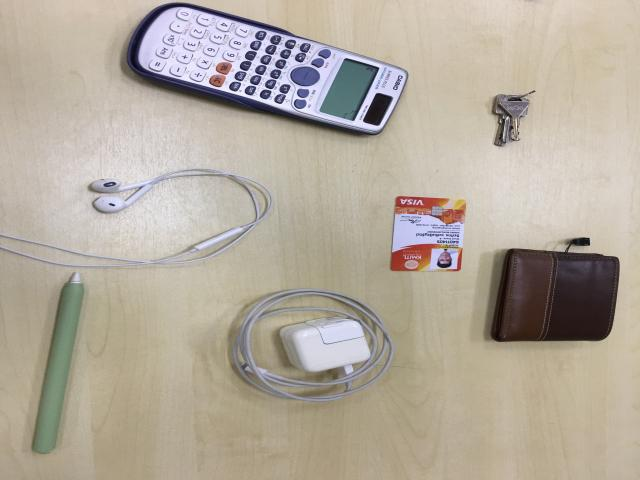Keys: (491, 93, 535, 148)
Wallet: (490, 249, 621, 344)
wire: (229, 290, 393, 404), (88, 170, 269, 262)
